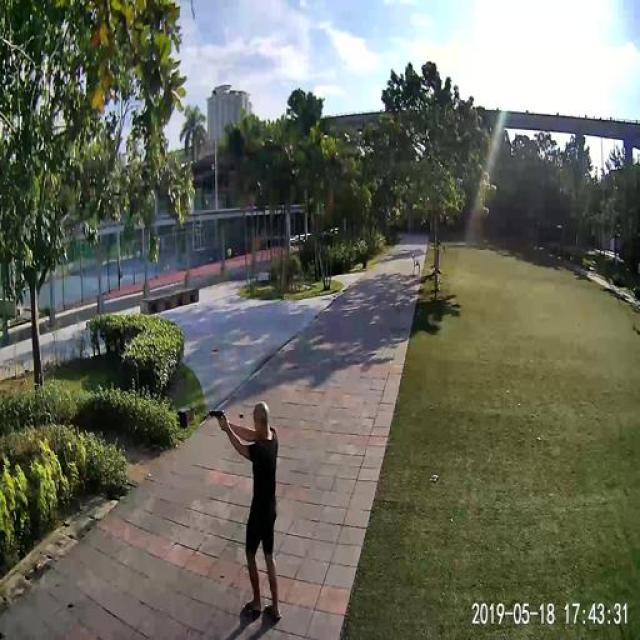Gun: (201, 395, 235, 432)
